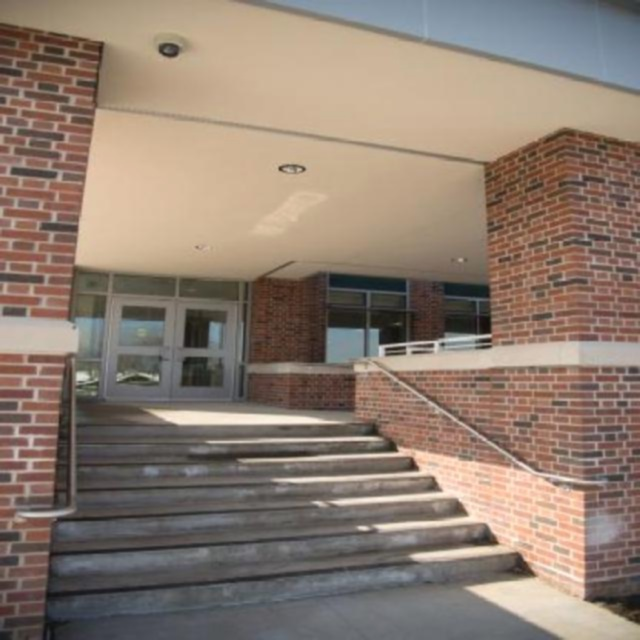stair: (49, 420, 523, 622)
